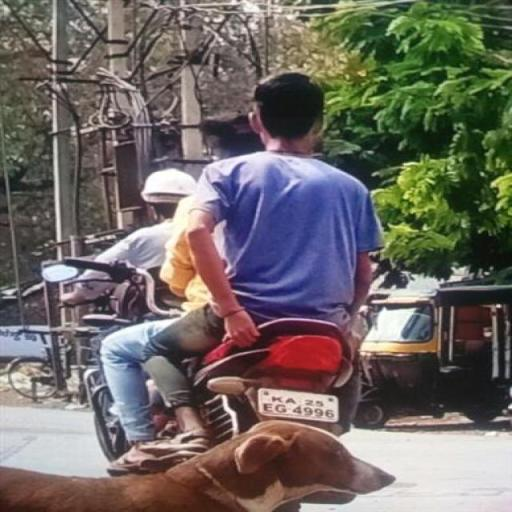tripple riding: (37, 70, 390, 338)
